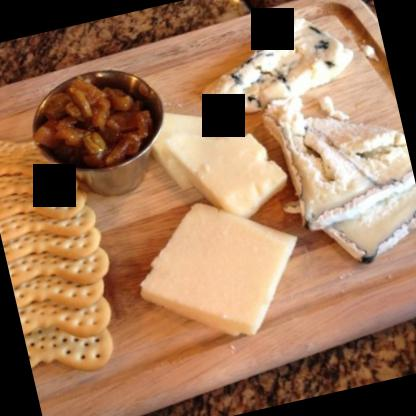cookie: (0, 125, 130, 387)
mozarella cheese: (135, 187, 311, 359), (146, 83, 291, 233)
